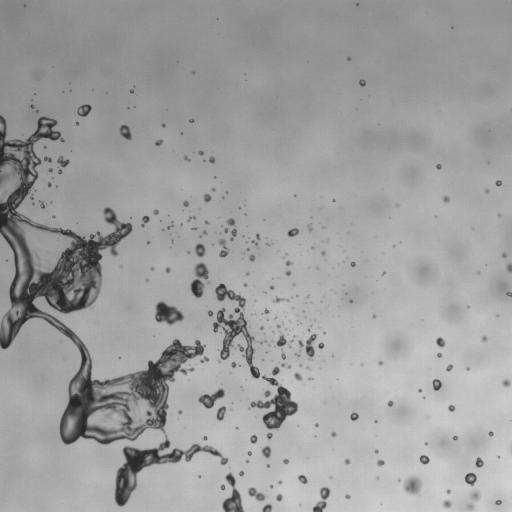droplet: (222, 473, 244, 511), (155, 301, 184, 325), (198, 388, 224, 408), (298, 333, 317, 360), (403, 475, 421, 495), (275, 331, 293, 347), (247, 487, 266, 501), (57, 156, 69, 173), (119, 124, 131, 140), (77, 104, 91, 116), (465, 472, 476, 486), (195, 243, 205, 257), (261, 445, 271, 458), (216, 406, 225, 420), (419, 454, 429, 464), (432, 379, 441, 390), (287, 228, 299, 236), (436, 337, 445, 347), (442, 499, 451, 509), (475, 457, 483, 467), (203, 193, 211, 202), (298, 475, 307, 483), (142, 216, 149, 226), (294, 373, 302, 381), (350, 412, 358, 420), (502, 379, 511, 386), (262, 504, 271, 511), (250, 435, 257, 443), (376, 459, 384, 466), (208, 156, 215, 163), (442, 196, 450, 202), (359, 79, 365, 86), (155, 139, 162, 145), (44, 156, 51, 162), (249, 254, 255, 261), (285, 260, 292, 266), (481, 335, 487, 342), (318, 342, 324, 349), (446, 364, 452, 371), (266, 432, 272, 439), (276, 494, 282, 501), (307, 224, 312, 232), (263, 308, 269, 314), (387, 400, 393, 406), (448, 405, 454, 411), (39, 201, 44, 208), (184, 155, 189, 161), (496, 180, 501, 186), (167, 223, 173, 228), (165, 267, 170, 273), (285, 270, 291, 275), (283, 459, 289, 464), (344, 459, 350, 464), (220, 484, 225, 490), (495, 500, 501, 505), (198, 150, 203, 155), (436, 164, 441, 169), (183, 201, 188, 206), (276, 324, 281, 329), (378, 360, 383, 365), (345, 494, 350, 499), (208, 310, 212, 316), (281, 352, 285, 358), (153, 210, 158, 214), (350, 262, 355, 266), (269, 285, 274, 289), (507, 292, 511, 297), (295, 351, 299, 356), (437, 353, 442, 357), (489, 431, 493, 436), (202, 436, 207, 440), (239, 471, 243, 476), (446, 489, 450, 494), (48, 168, 52, 172), (224, 228, 228, 232), (202, 230, 206, 234), (321, 251, 325, 255), (502, 253, 506, 257), (331, 432, 335, 436), (374, 449, 378, 453), (278, 480, 282, 484), (192, 227, 197, 230), (30, 104, 33, 108), (189, 119, 193, 122), (485, 189, 489, 192), (150, 267, 154, 270), (372, 314, 375, 318), (308, 377, 312, 380), (453, 436, 457, 439), (347, 57, 350, 60), (162, 124, 165, 127), (48, 183, 51, 186), (311, 246, 314, 249), (187, 250, 190, 253), (382, 272, 385, 275), (274, 316, 277, 319), (260, 326, 263, 329), (466, 367, 469, 370), (418, 389, 421, 392), (178, 410, 181, 413), (248, 452, 251, 455), (245, 460, 248, 463), (270, 485, 273, 488), (192, 71, 195, 73), (130, 90, 133, 92), (212, 188, 214, 191), (332, 199, 335, 201), (498, 214, 500, 217), (205, 221, 208, 223), (246, 272, 248, 275), (244, 283, 246, 286), (299, 364, 302, 366), (315, 424, 318, 426), (425, 442, 427, 445), (36, 110, 38, 112), (76, 122, 78, 124), (396, 204, 398, 206), (268, 243, 270, 245), (307, 295, 309, 297), (350, 300, 352, 302), (323, 332, 325, 334), (294, 335, 296, 337), (360, 363, 362, 365), (307, 367, 309, 369), (267, 465, 269, 467), (398, 479, 400, 481)
ligament: (0, 115, 225, 506), (212, 283, 298, 430), (190, 262, 209, 298), (312, 486, 330, 511), (467, 489, 481, 511), (227, 218, 237, 240), (218, 238, 229, 257), (252, 234, 260, 247), (273, 297, 289, 303), (506, 262, 511, 273), (231, 362, 241, 367), (281, 363, 290, 368), (188, 216, 194, 220), (308, 325, 311, 331), (510, 445, 511, 453)
